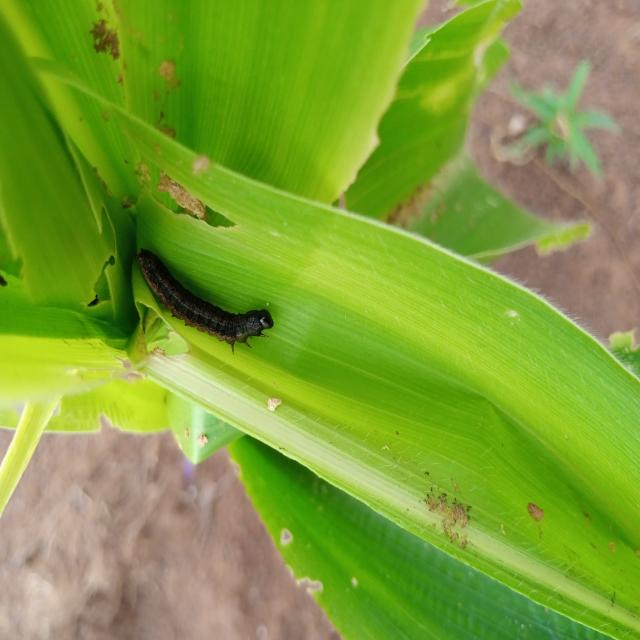yellow-stem-borer-larva: (113, 233, 283, 351)
